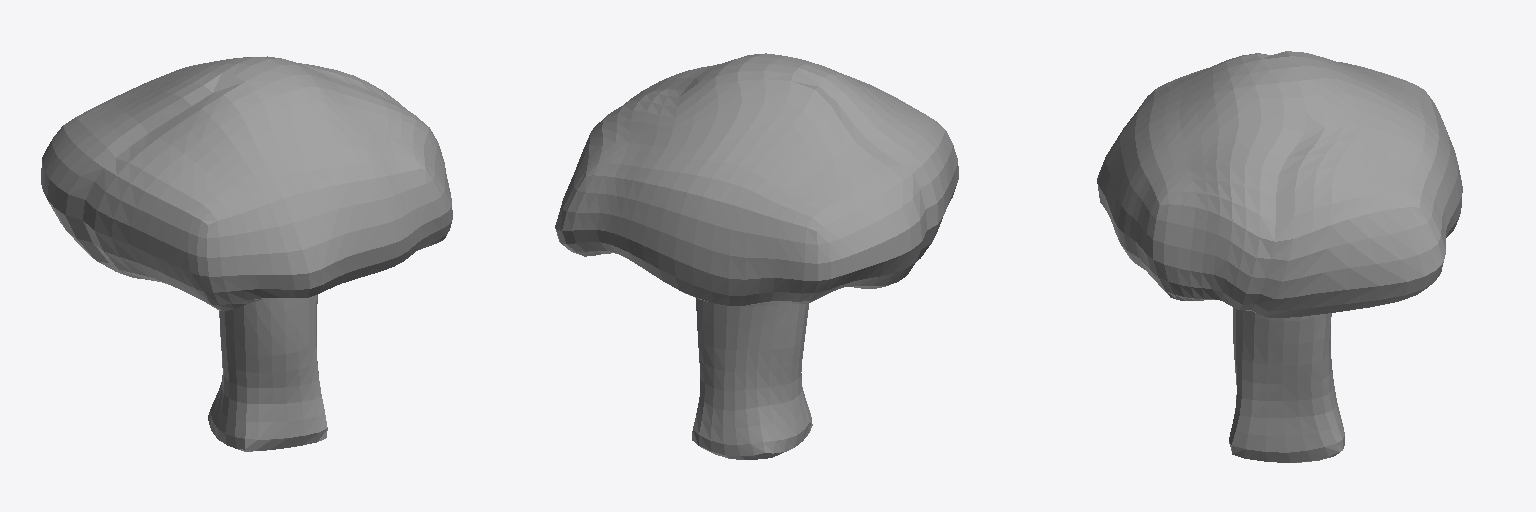
The model's file is mushroom.obj.
The picture shows the model from 3 angles: view 1: azimuth 30°, elevation 25°; view 2: azimuth 150°, elevation 25°; view 3: azimuth 270°, elevation 25°; orthographic projection.
Size of the model in its own units: 3.61 by 3.75 by 3.3.